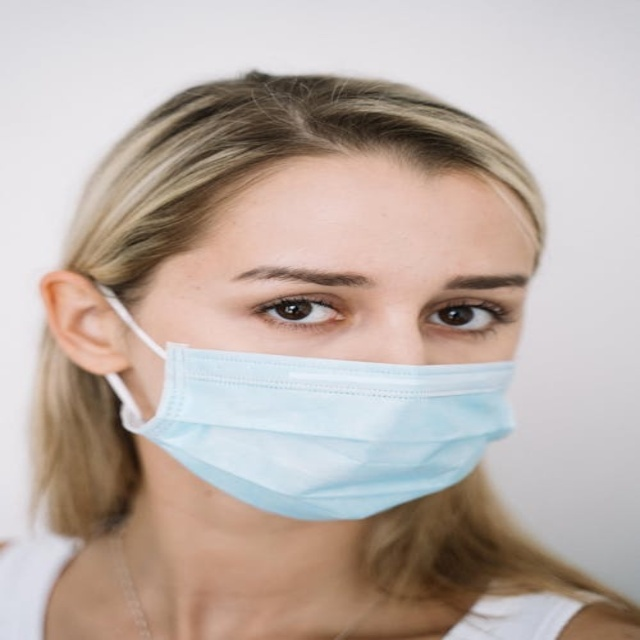Mascara: (101, 281, 519, 521)
Sin_gafas: (224, 259, 527, 343)
